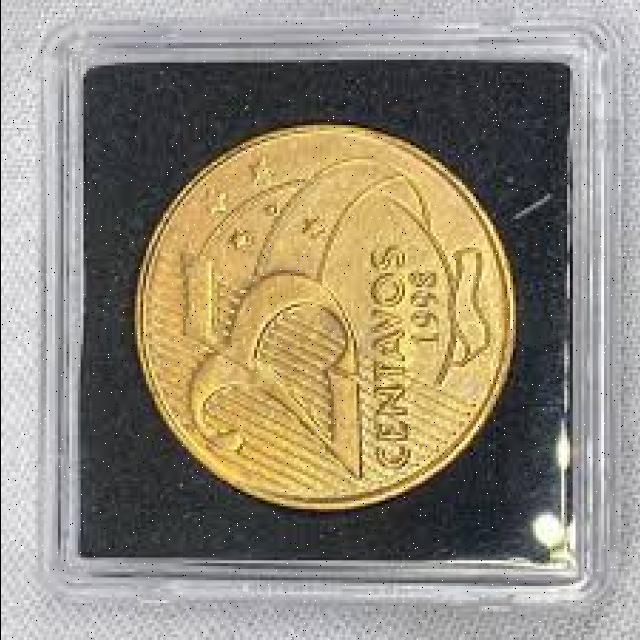25 cent: (131, 134, 503, 502)
